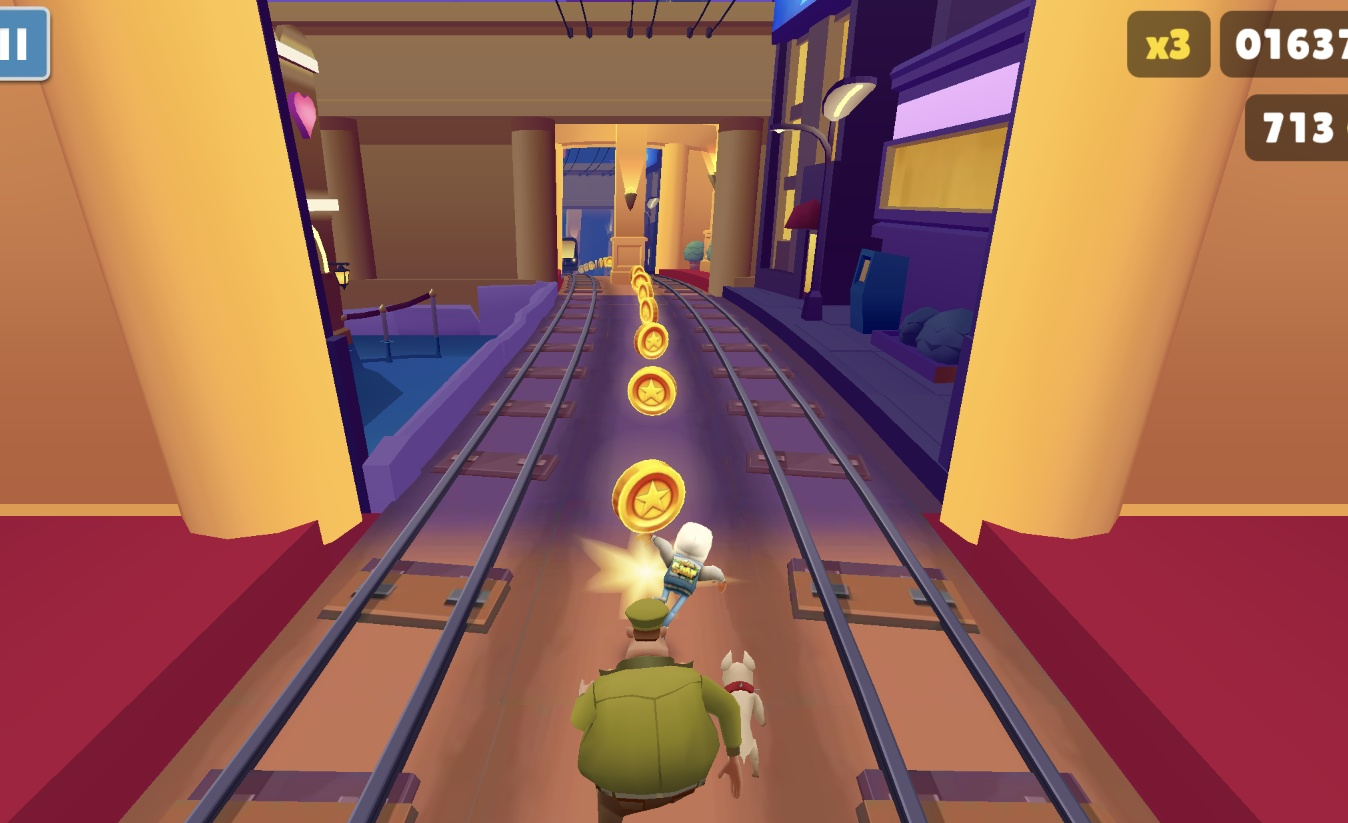pillar: (610, 123, 650, 293)
train: (559, 237, 580, 277)
